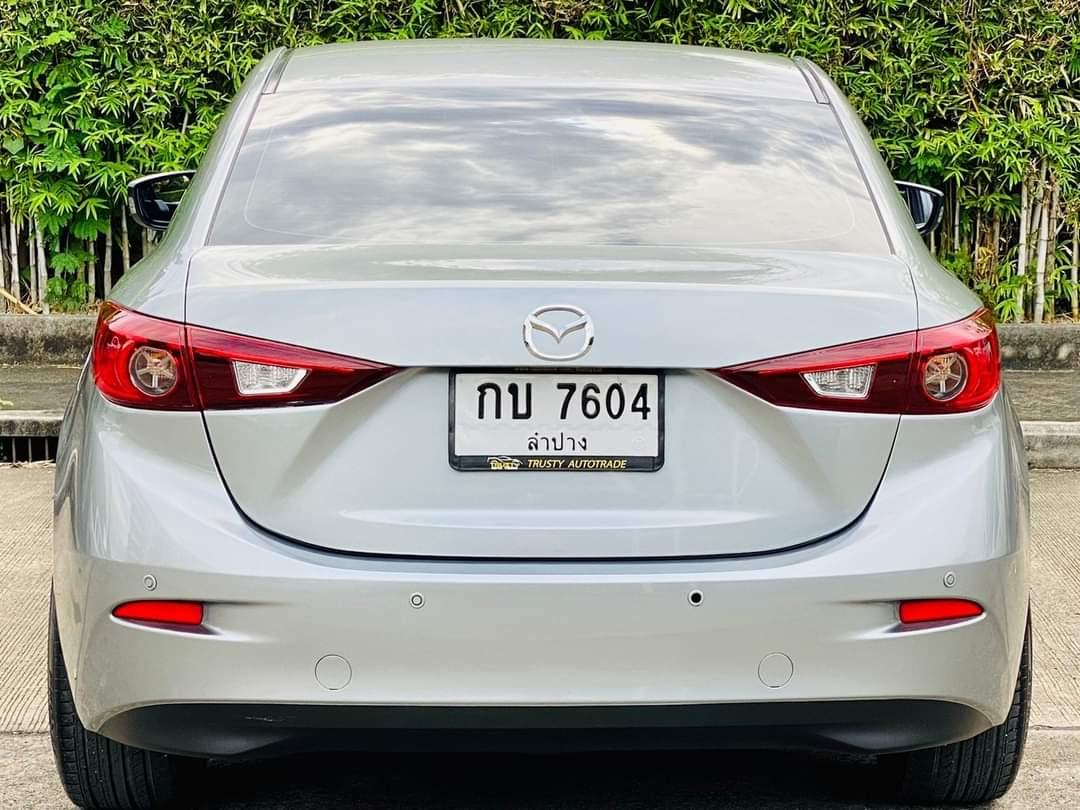license-plate: (448, 363, 666, 474)
